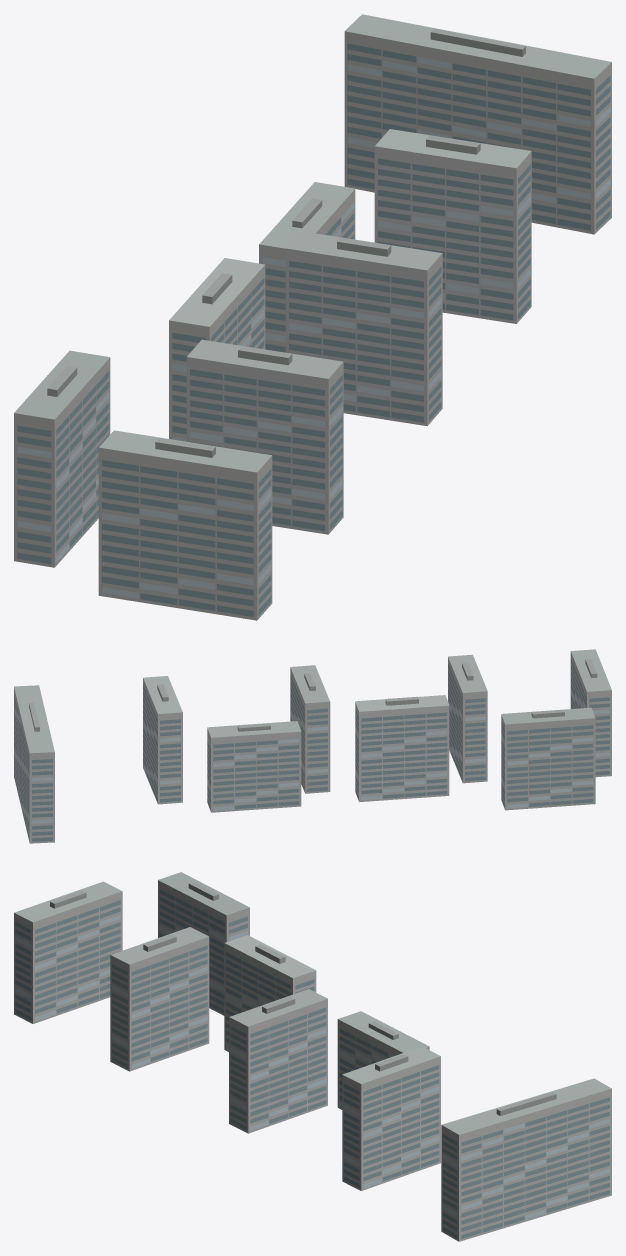
The model's file is apt-a13186306.glb.
The picture shows the model from 3 angles, top to bottom: view 1: azimuth 30°, elevation 25°; view 2: azimuth 150°, elevation 25°; view 3: azimuth 270°, elevation 25°; orthographic projection. The views are drawn at different scales.
Visible parts, largest first — view 1: apt-a13186306; view 2: apt-a13186306; view 3: apt-a13186306.
Part boxes in pixels (x1,y1,x2,y2): apt-a13186306: (14,14,611,620); apt-a13186306: (14,649,611,843); apt-a13186306: (14,872,611,1241).
Size of the model in its own units: 211 by 41 by 198.
